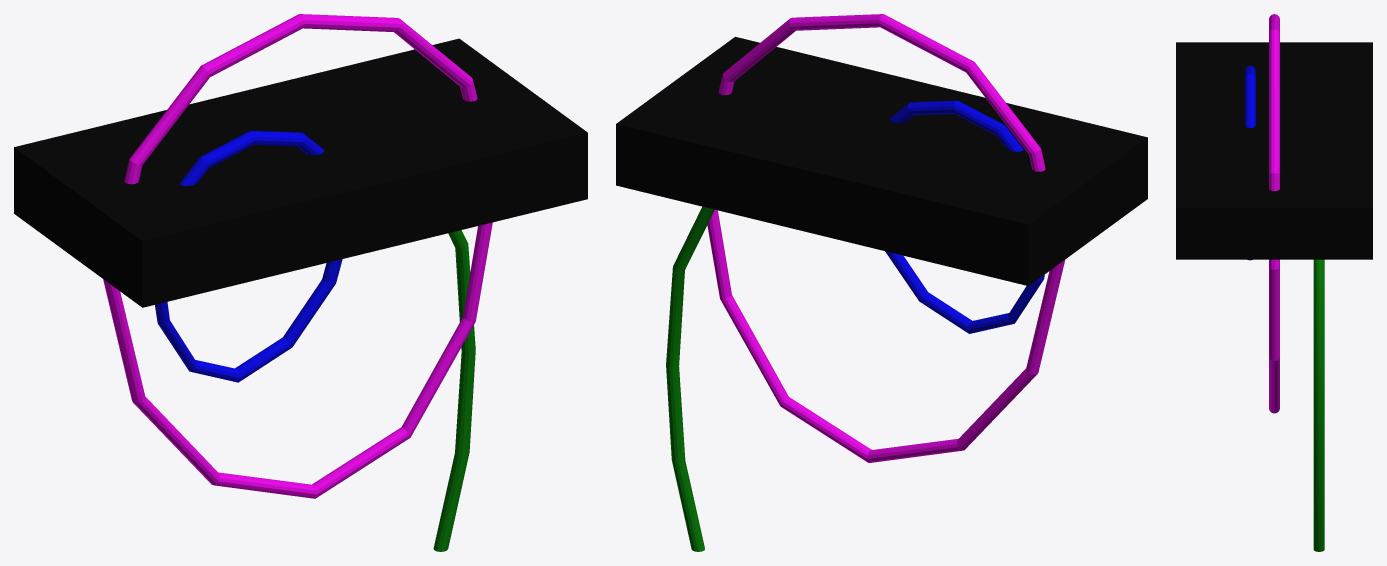
File: GAME3040 - Ceiling Wires.fbx
3 renders of one model, left to right at view 1: azimuth 30°, elevation 25°; view 2: azimuth 150°, elevation 25°; view 3: azimuth 270°, elevation 25°, orthographic. The views are drawn at different scales.
Visible parts, largest first — view 1: Hole, Purple_Wire, Blue_Wire, Green_Wire; view 2: Hole, Purple_Wire, Green_Wire, Blue_Wire; view 3: Hole, Purple_Wire, Green_Wire, Blue_Wire.
Part boxes in pixels (x1,y1,x2,y2): Hole: (14, 38, 587, 307); Purple_Wire: (103, 14, 492, 498); Blue_Wire: (155, 130, 342, 382); Green_Wire: (433, 230, 475, 551); Hole: (616, 36, 1147, 286); Purple_Wire: (707, 14, 1064, 462); Green_Wire: (666, 206, 714, 551); Blue_Wire: (885, 100, 1044, 333); Hole: (1176, 42, 1372, 259); Purple_Wire: (1269, 14, 1279, 413); Green_Wire: (1313, 259, 1324, 551); Blue_Wire: (1244, 65, 1255, 260).
Size of the model in its own units: 7 by 8.97 by 3.5.
